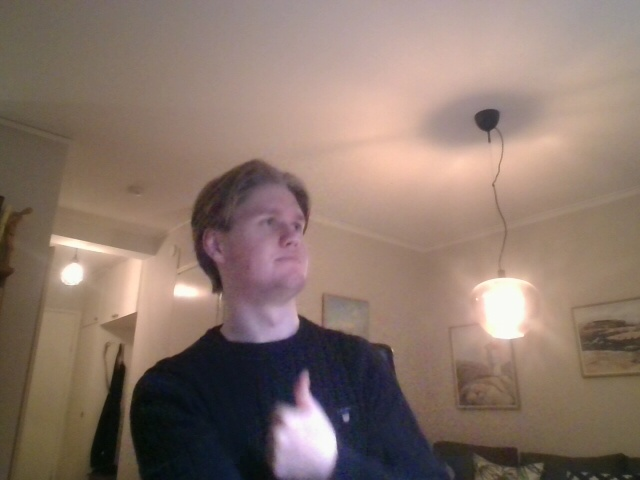ThumbsUp: (267, 369, 337, 479)
